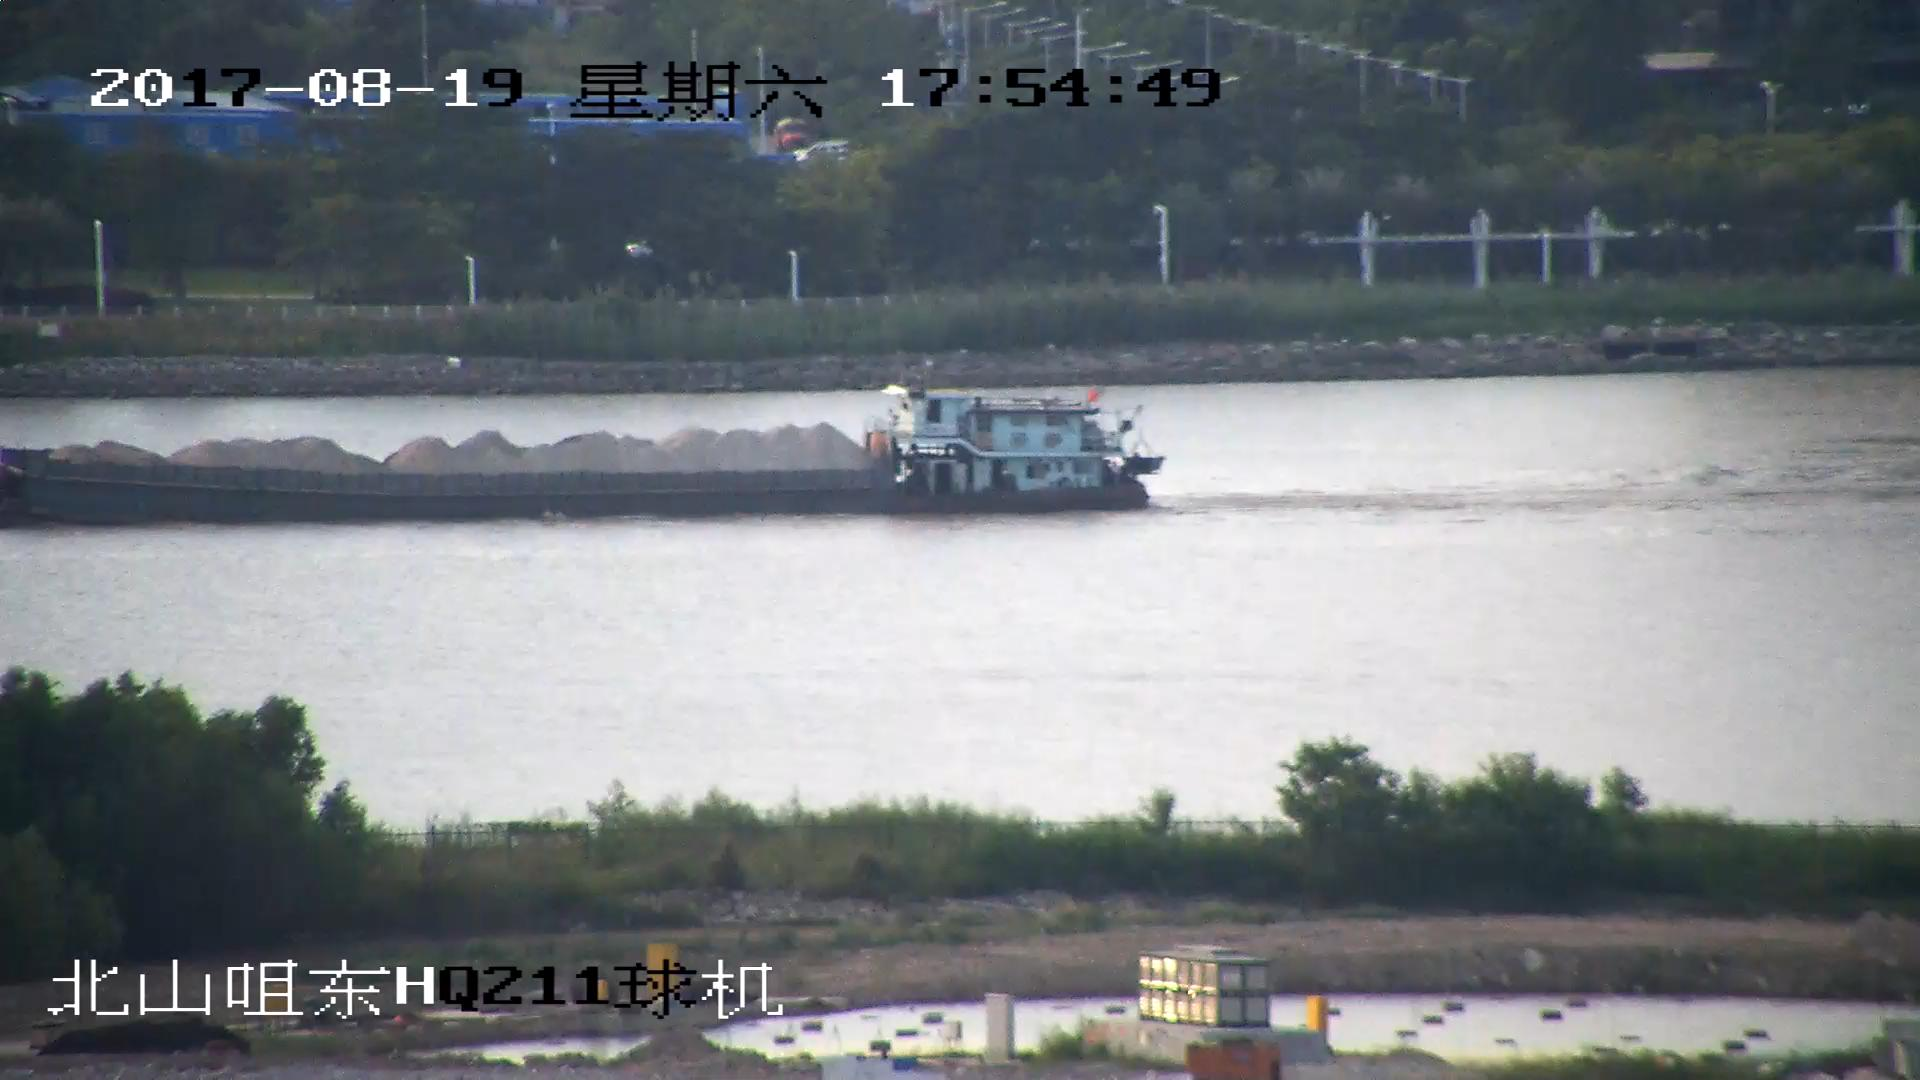ore carrier: (1, 379, 1164, 520)
